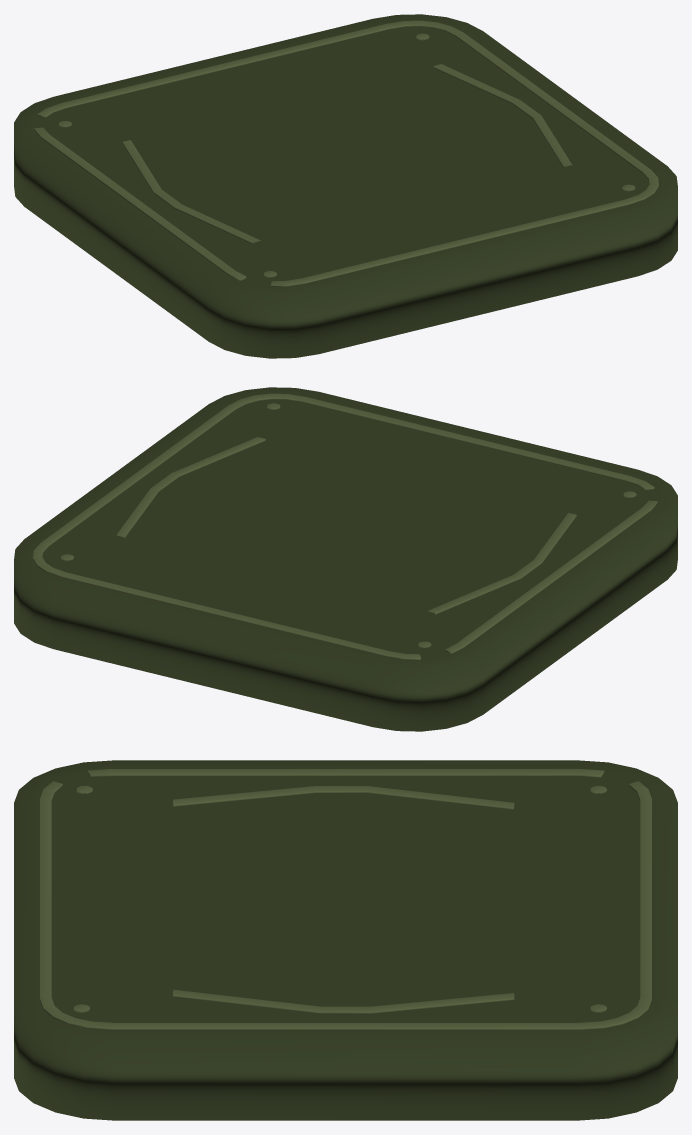
The model's file is ButtonClock-Frame.glb.
The picture shows the model from 3 angles, top to bottom: view 1: azimuth 30°, elevation 25°; view 2: azimuth 150°, elevation 25°; view 3: azimuth 270°, elevation 25°; orthographic projection. The views are drawn at different scales.
Visible parts, largest first — view 1: Cube.001, Cube.002; view 2: Cube.001, Cube.002; view 3: Cube.001, Cube.002.
Boxes of the visible parts, box(x1,y1,x2,y2) form: Cube.001: box(14, 14, 677, 358); Cube.002: box(34, 20, 658, 286); Cube.001: box(14, 387, 677, 731); Cube.002: box(33, 393, 657, 659); Cube.001: box(14, 760, 677, 1120); Cube.002: box(40, 769, 651, 1029).
Size of the model in its own units: 2 by 0.2726 by 2.
